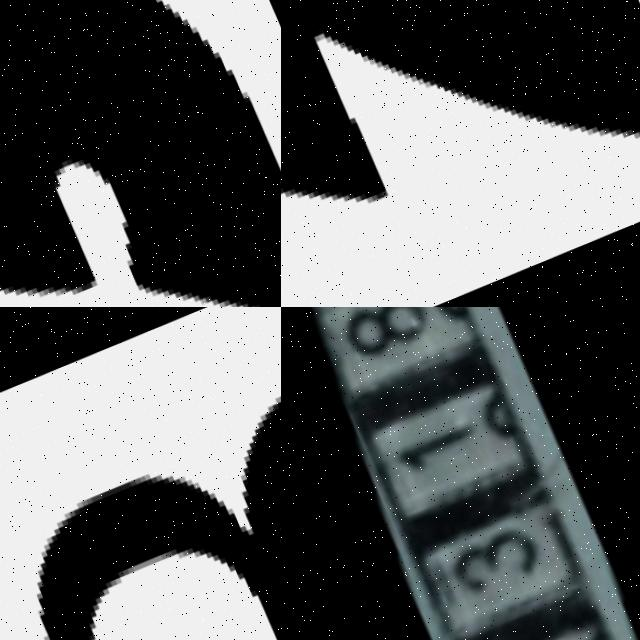1: (381, 400, 487, 491)
3: (0, 0, 281, 307), (435, 523, 544, 613)
7: (281, 0, 640, 307)
8: (328, 307, 440, 377)
B: (35, 397, 281, 640)
